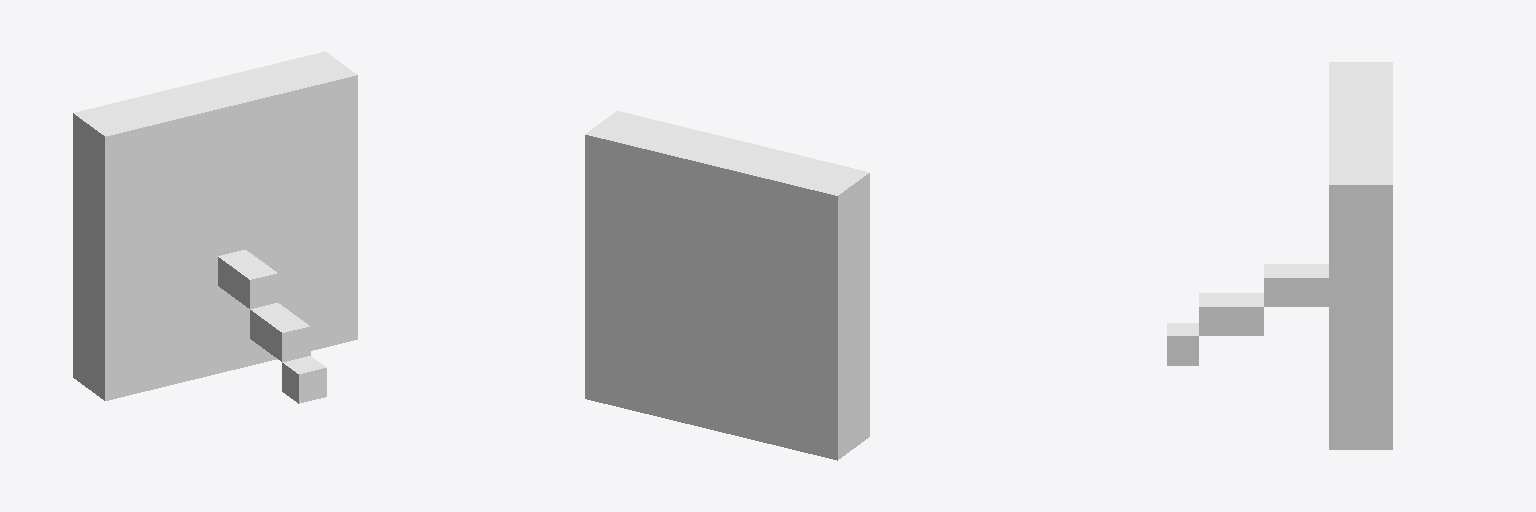
File: Switch_On.obj
3 views of the same model, side by side, from view 1: azimuth 30°, elevation 25°; view 2: azimuth 150°, elevation 25°; view 3: azimuth 270°, elevation 25° (orthographic).
Parts seen in each view (by area): view 1: Switch_On; view 2: Switch_On; view 3: Switch_On.
Part boxes in pixels (x1,y1,x2,y2): Switch_On: (73,51,357,403); Switch_On: (585,111,869,460); Switch_On: (1167,62,1392,449).
Size of the model in its own units: 9 by 9 by 7.